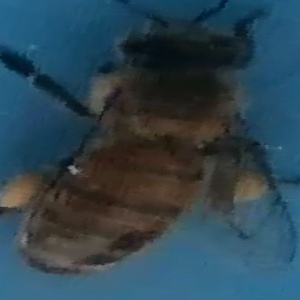bee: (7, 4, 298, 278)
